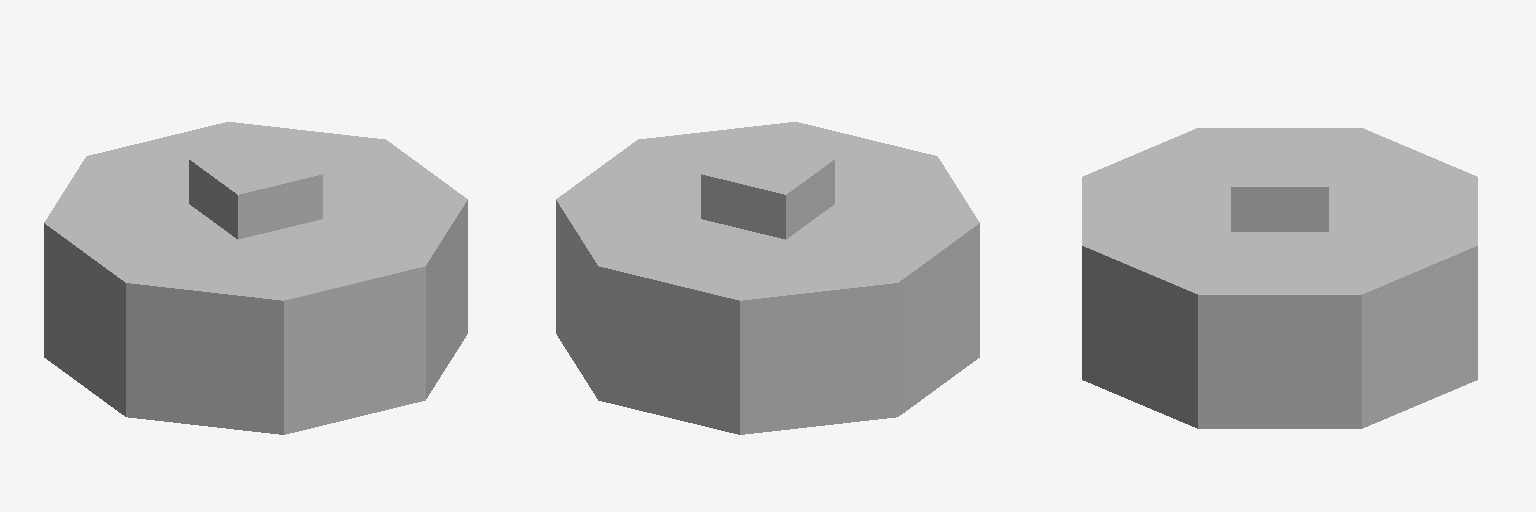
File: cannon_carriage_wheel.obj
3 views of the same model, side by side, from view 1: azimuth 30°, elevation 25°; view 2: azimuth 150°, elevation 25°; view 3: azimuth 270°, elevation 25° (orthographic).
Visible parts, largest first — view 1: cylinder, cube; view 2: cylinder, cube; view 3: cylinder, cube.
Boxes of the visible parts, <box> form: cylinder: <box>44,122,467,434</box>; cube: <box>189,138,322,239</box>; cylinder: <box>556,122,979,434</box>; cube: <box>701,138,834,239</box>; cylinder: <box>1082,128,1477,428</box>; cube: <box>1231,146,1328,231</box>.
Size of the model in its own units: 0.5 by 0.25 by 0.5.